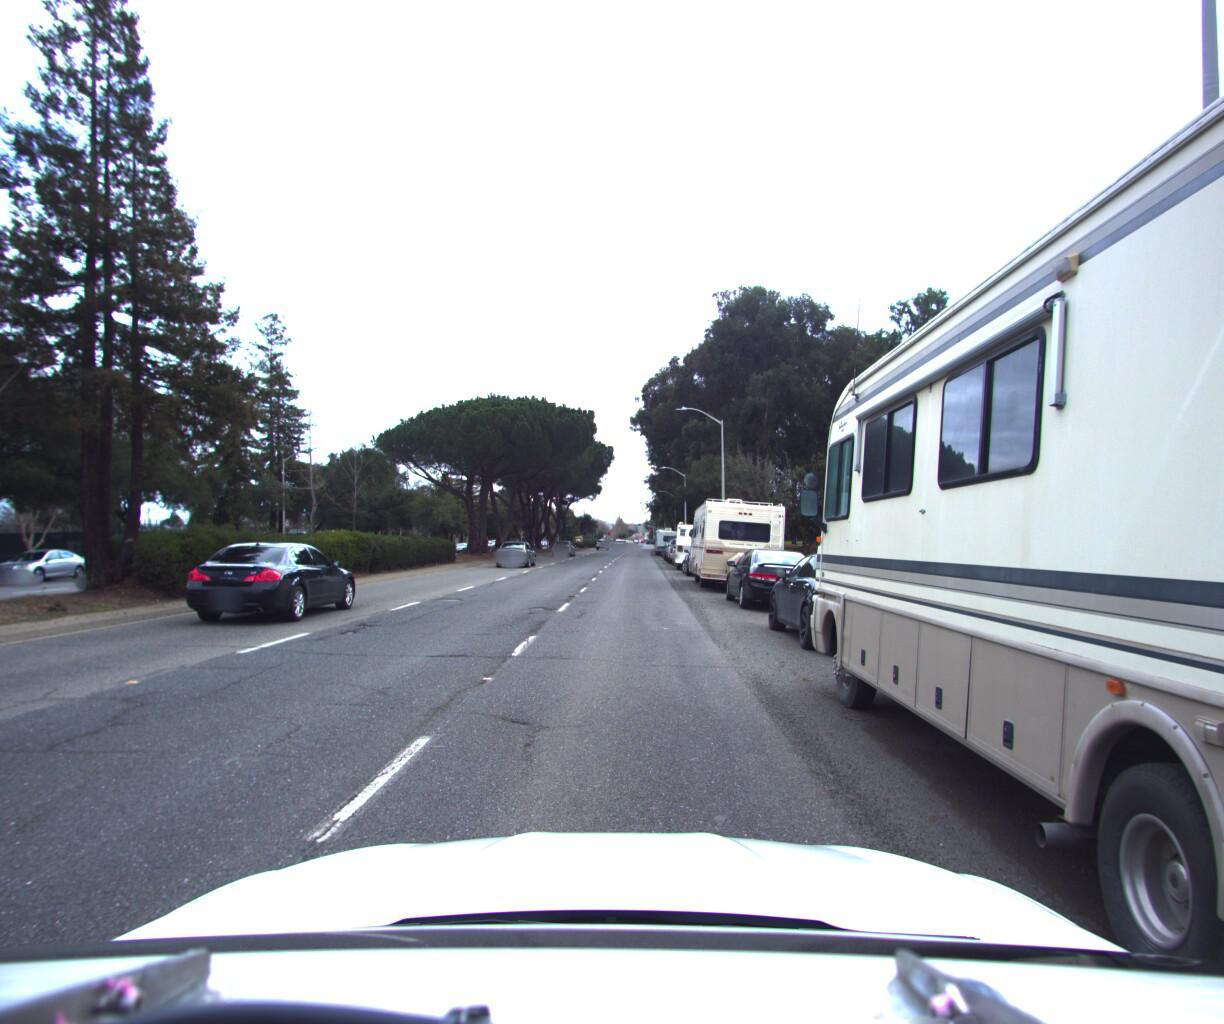car: (759, 543, 952, 669), (180, 540, 368, 629), (718, 540, 827, 614), (0, 551, 95, 587), (680, 534, 730, 574), (492, 535, 536, 563), (663, 528, 699, 558), (549, 534, 575, 551), (0, 552, 1, 598)
other_vehicle: (685, 491, 790, 591), (671, 514, 724, 566), (650, 521, 684, 550)
